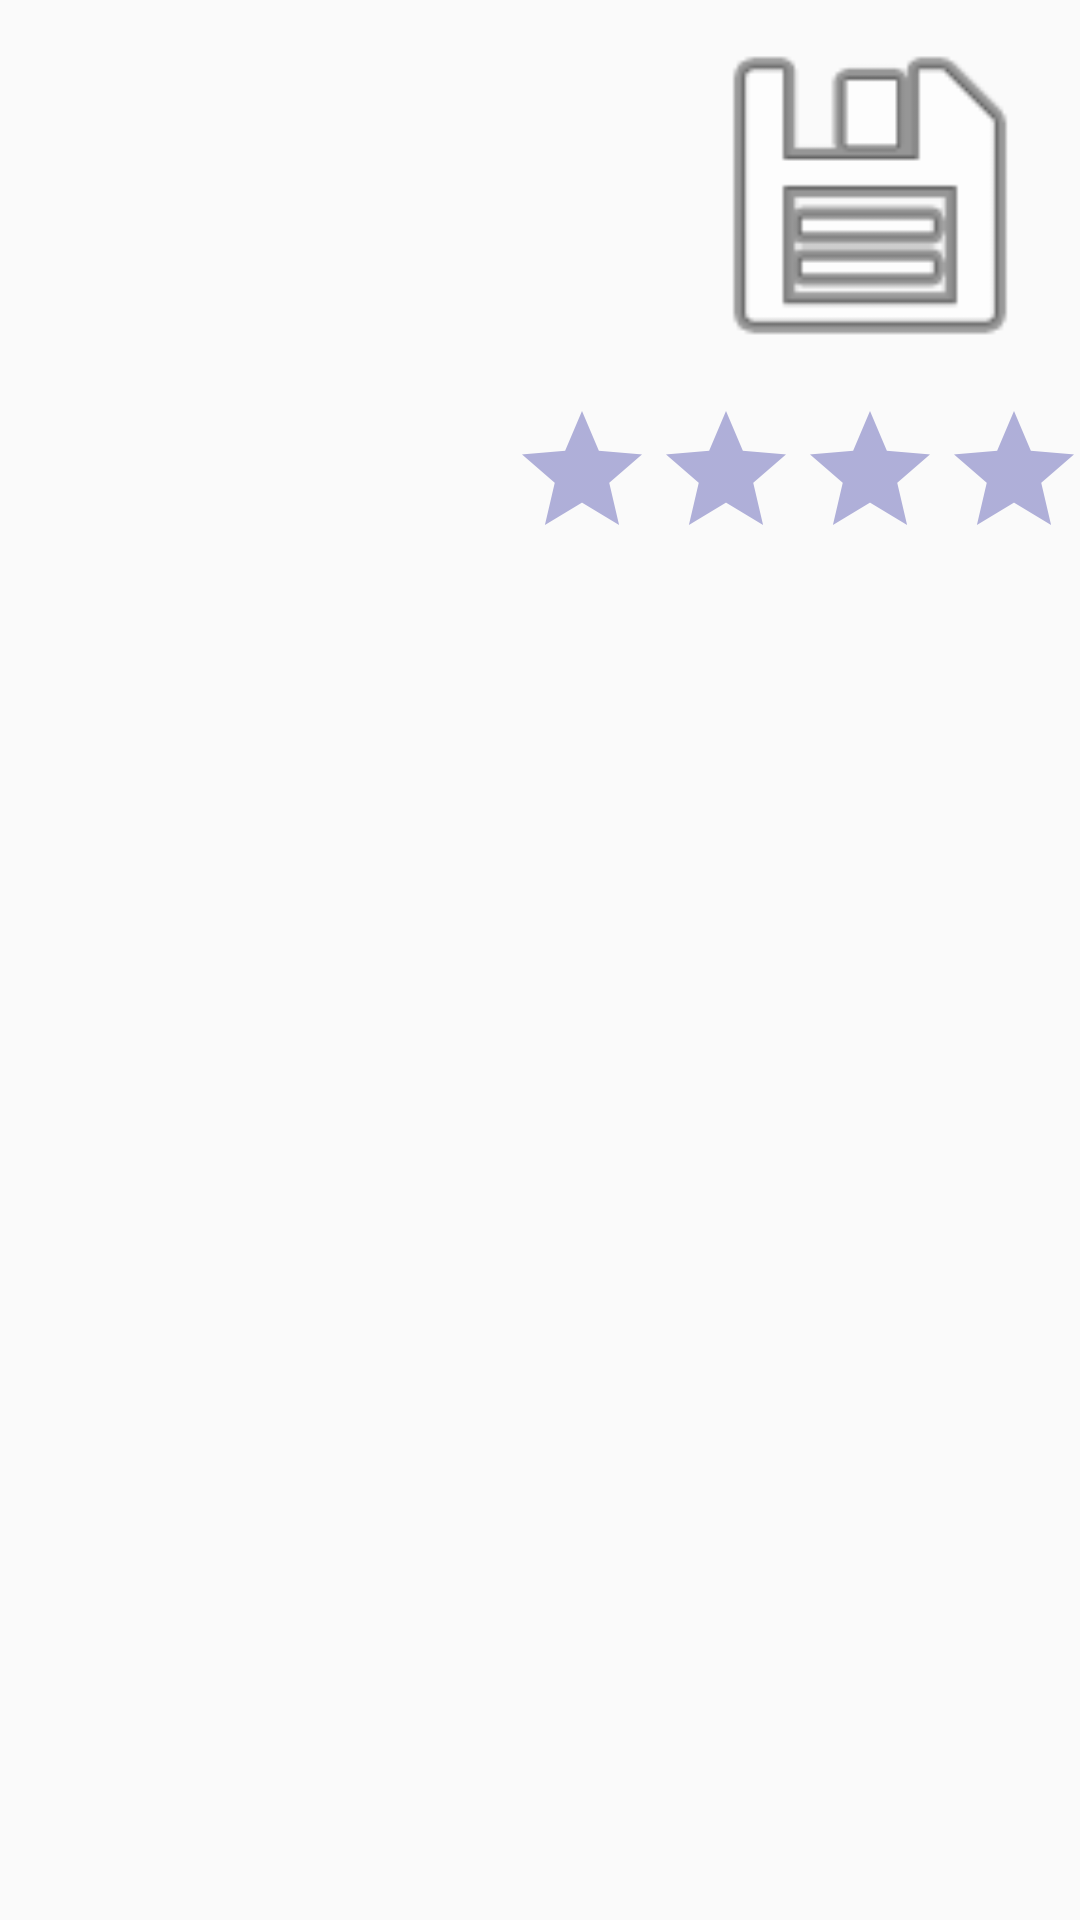

Icon bounding boxes for this 1080px×1920px phone screenshot, format (x1, y1, x2, y2):
save: (733, 57, 1007, 334)
